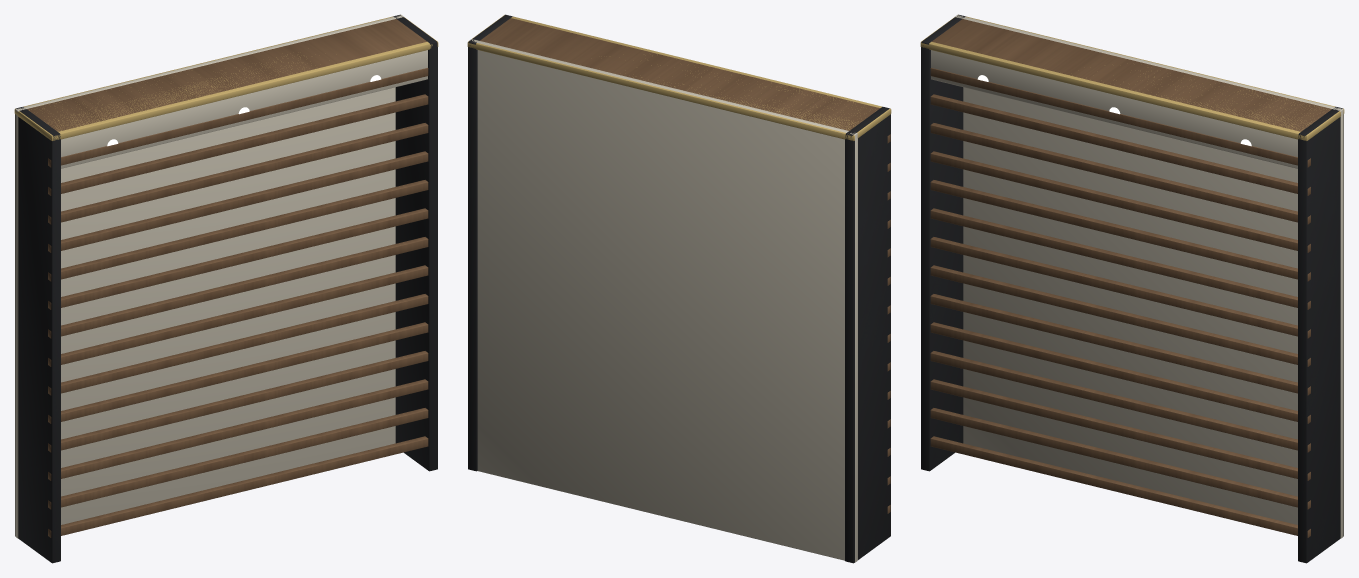
Rendered from pf_display_wall_slat_system_t4.glb.
The picture shows the model from 3 angles, left to right: view 1: azimuth 30°, elevation 25°; view 2: azimuth 150°, elevation 25°; view 3: azimuth 330°, elevation 25°; orthographic projection.
Parts seen in each view (by area): view 1: Slatwall_Back, Slatwall_Left_Trim, Slatwall_Right_Trim, Crown_Main, Header_Back, Crown_Trim, Slat_08, Slat_10, Slat_12, Slat_06, Slat_01, Slat_02 (+8 smaller); view 2: Slatwall_Back, Slatwall_Left_Trim, Crown_Main, Slatwall_Right_Trim, Crown_Trim; view 3: Slatwall_Back, Slatwall_Right_Trim, Slatwall_Left_Trim, Crown_Main, Header_Back, Crown_Trim, Slat_08, Slat_10, Slat_12, Slat_06, Slat_01, Slat_02 (+8 smaller).
Boxes of the visible parts, <box> form: Slatwall_Back: <box>15,15,404,538</box>; Slatwall_Left_Trim: <box>15,106,60,563</box>; Slatwall_Right_Trim: <box>393,14,437,471</box>; Crown_Main: <box>27,19,426,131</box>; Header_Back: <box>61,50,427,168</box>; Crown_Trim: <box>14,16,438,140</box>; Slat_08: <box>48,237,428,338</box>; Slat_10: <box>48,180,428,281</box>; Slat_12: <box>48,123,428,224</box>; Slat_06: <box>48,294,428,395</box>; Slat_01: <box>48,436,428,537</box>; Slat_02: <box>48,408,428,509</box>; Slatwall_Back: <box>469,39,857,562</box>; Slatwall_Left_Trim: <box>845,106,890,563</box>; Crown_Main: <box>480,18,879,130</box>; Slatwall_Right_Trim: <box>468,14,512,471</box>; Crown_Trim: <box>467,15,891,140</box>; Slatwall_Back: <box>954,15,1343,538</box>; Slatwall_Right_Trim: <box>1298,106,1343,563</box>; Slatwall_Left_Trim: <box>921,14,965,471</box>; Crown_Main: <box>932,19,1331,131</box>; Header_Back: <box>931,50,1297,168</box>; Crown_Trim: <box>920,16,1344,140</box>; Slat_08: <box>930,237,1310,338</box>; Slat_10: <box>930,180,1310,281</box>; Slat_12: <box>930,123,1310,224</box>; Slat_06: <box>930,294,1310,395</box>; Slat_01: <box>930,436,1310,537</box>; Slat_02: <box>930,408,1310,509</box>.
Size of the model in its own units: 2.25 by 2.38 by 0.38.
6 materials, 2 textured.
